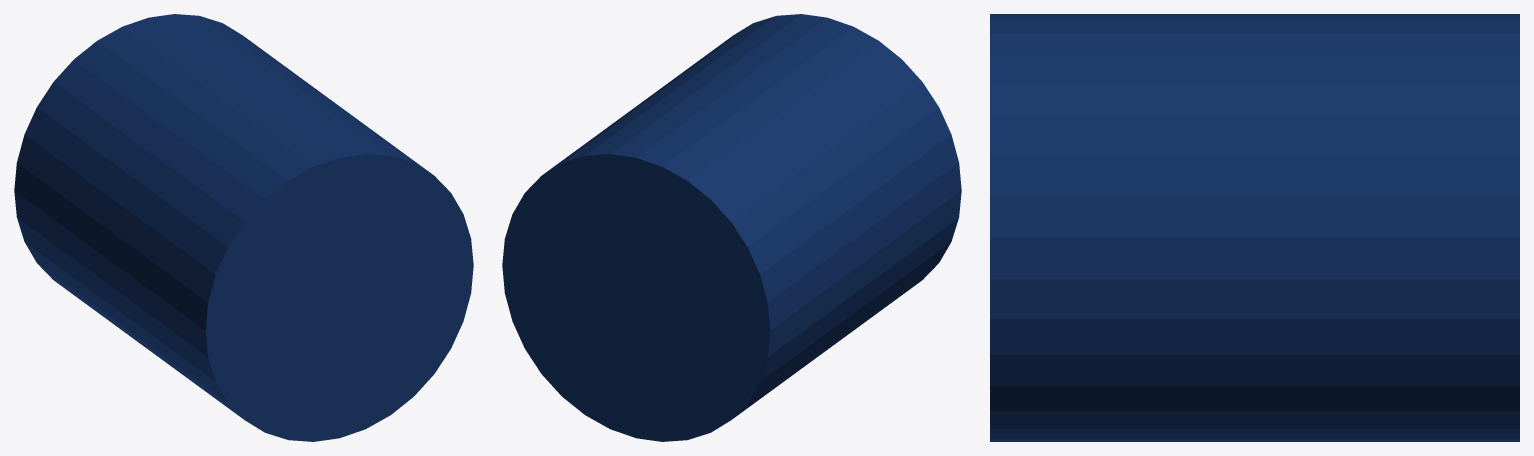
File: Hammer Head.fbx
3 renders of one model, left to right at view 1: azimuth 30°, elevation 25°; view 2: azimuth 150°, elevation 25°; view 3: azimuth 270°, elevation 25°, orthographic. The views are drawn at different scales.
Visible parts, largest first — view 1: Hammer Head; view 2: Hammer Head; view 3: Hammer Head.
Part boxes in pixels (x1=…): Hammer Head: x1=14, y1=14, x2=473, y2=441; Hammer Head: x1=502, y1=14, x2=961, y2=441; Hammer Head: x1=990, y1=14, x2=1519, y2=441.
Bounding box in the file's own units: 0.3974 × 0.3974 × 0.4914.
